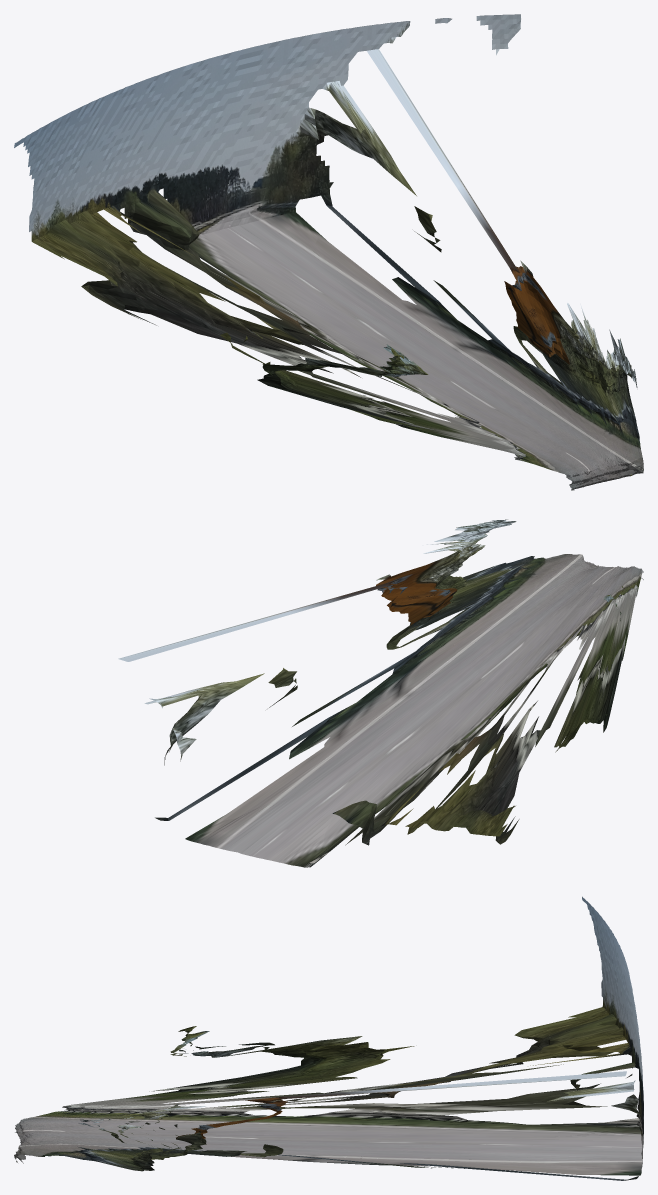
The picture shows the model from 3 angles, top to bottom: view 1: azimuth 30°, elevation 25°; view 2: azimuth 150°, elevation 25°; view 3: azimuth 270°, elevation 25°; orthographic projection. The views are drawn at different scales.
Visible parts, largest first — view 1: defaultobject; view 2: defaultobject; view 3: defaultobject.
Part boxes in pixels (x1,y1,x2,y2): defaultobject: (14, 14, 643, 490); defaultobject: (118, 519, 643, 867); defaultobject: (14, 896, 643, 1180).
Bounding box in the file's own units: 35.8 × 12.23 × 44.34.
Materials: 1 (1 with a texture image).
